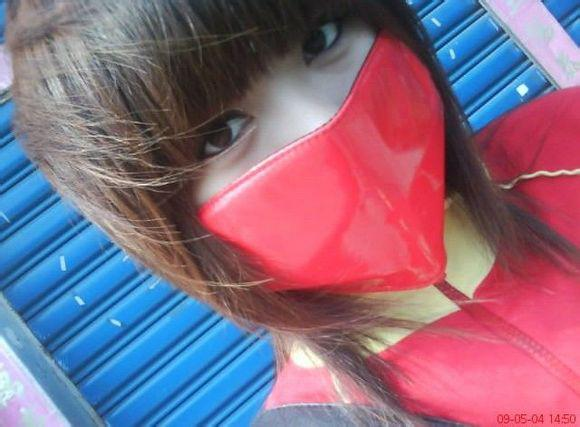OK: (157, 1, 453, 297)
